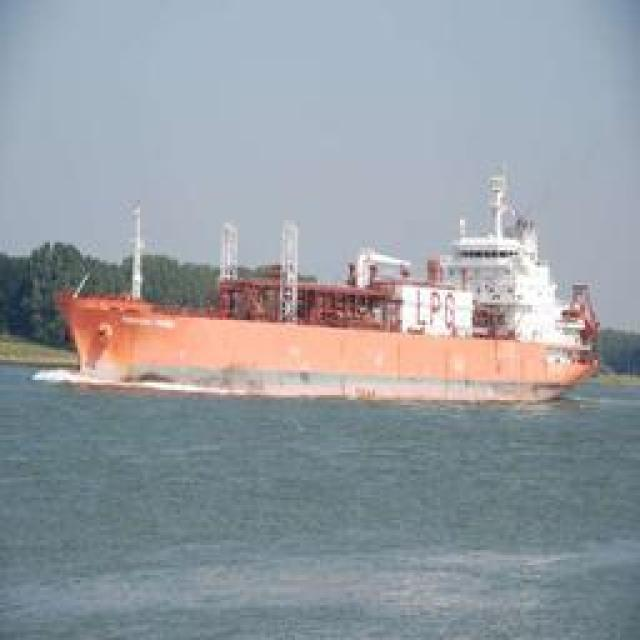CIV_Ship: (54, 172, 598, 408)
